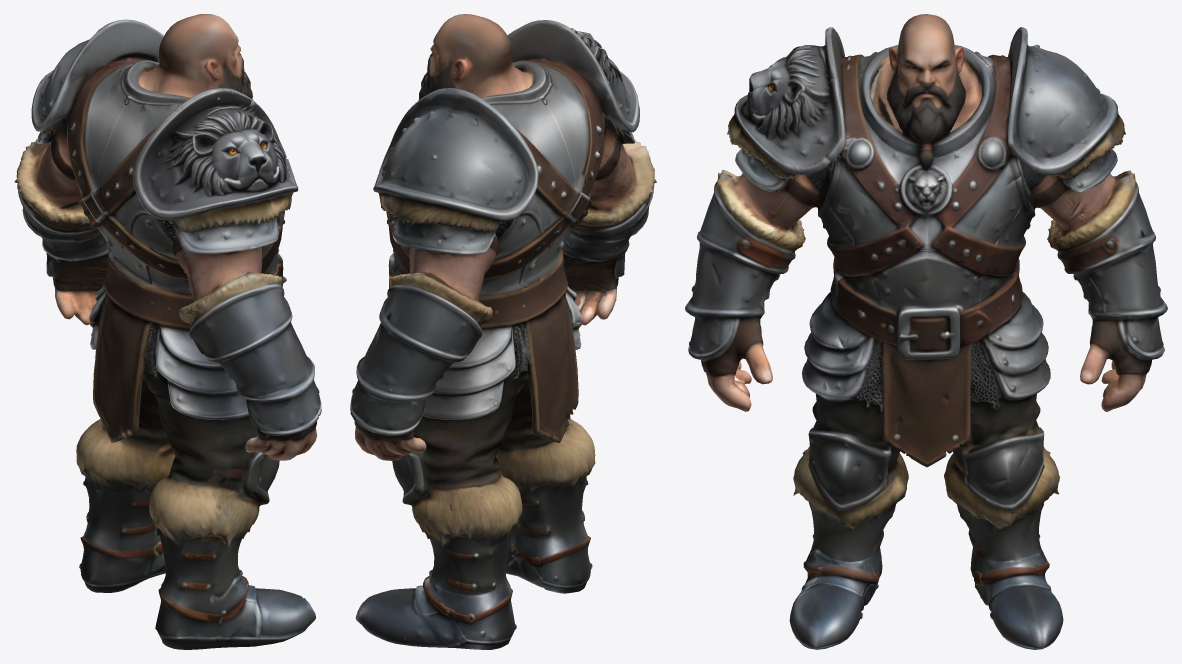
File: Vex_updated.fbx
3 views of the same model, side by side, from view 1: azimuth 30°, elevation 25°; view 2: azimuth 150°, elevation 25°; view 3: azimuth 270°, elevation 25° (orthographic). The views are drawn at different scales.
Parts seen in each view (by area): view 1: tripo_mesh_6f7e62ce_896b_4161_ac05_a758db6725d7; view 2: tripo_mesh_6f7e62ce_896b_4161_ac05_a758db6725d7; view 3: tripo_mesh_6f7e62ce_896b_4161_ac05_a758db6725d7.
Boxes of the visible parts, x1=… form: tripo_mesh_6f7e62ce_896b_4161_ac05_a758db6725d7: x1=14, y1=14, x2=321, y2=649; tripo_mesh_6f7e62ce_896b_4161_ac05_a758db6725d7: x1=350, y1=14, x2=656, y2=649; tripo_mesh_6f7e62ce_896b_4161_ac05_a758db6725d7: x1=685, y1=14, x2=1167, y2=649.
Bounding box in the file's own units: 0.3293 × 1 × 0.724.
1 material, 1 textured.
